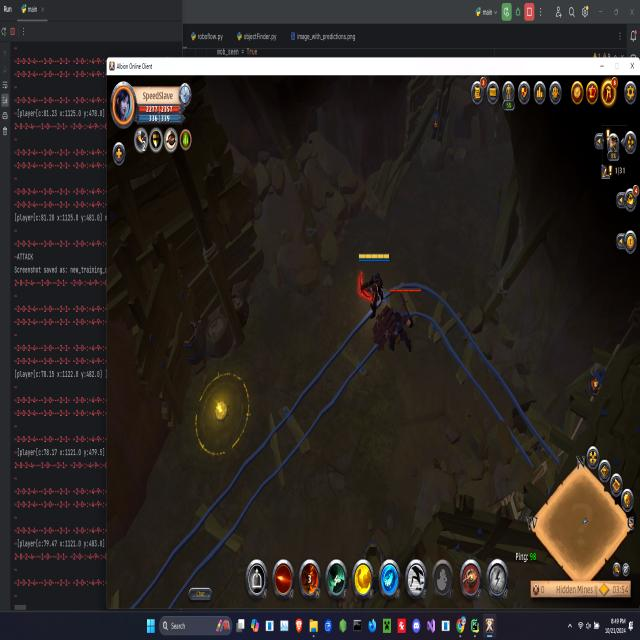ore: (366, 284, 426, 362)
red: (356, 246, 390, 324)
